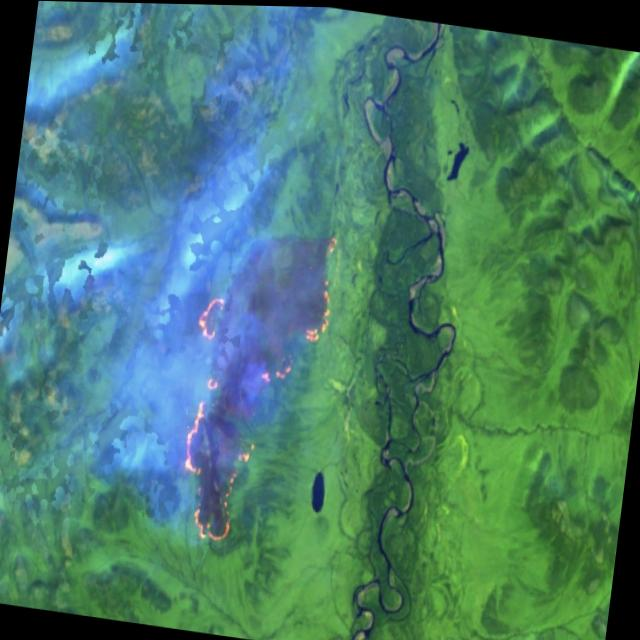fire: (150, 200, 344, 559)
